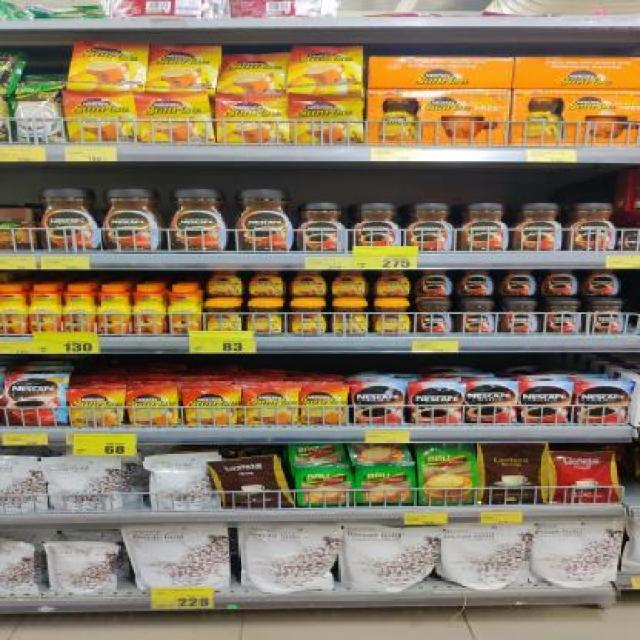Coffee: (140, 93, 214, 143), (66, 92, 137, 143), (74, 42, 145, 91), (41, 188, 97, 250), (218, 95, 290, 143), (290, 47, 361, 94), (293, 95, 362, 143), (171, 191, 227, 250), (3, 375, 66, 425), (106, 189, 157, 250), (239, 191, 292, 249), (151, 46, 217, 90), (222, 55, 286, 94), (299, 204, 347, 251), (354, 204, 401, 248), (572, 203, 616, 249), (408, 204, 452, 250), (519, 202, 561, 250), (464, 204, 506, 252), (409, 384, 461, 422), (577, 384, 629, 422), (521, 382, 569, 423), (186, 388, 240, 424), (356, 383, 404, 423), (299, 388, 350, 424), (246, 388, 297, 424), (468, 383, 515, 422), (70, 389, 120, 425), (128, 390, 180, 424), (98, 285, 132, 336), (63, 285, 95, 334), (30, 285, 62, 333), (169, 286, 200, 335), (134, 285, 165, 333), (331, 299, 371, 333), (585, 299, 624, 333), (289, 299, 326, 333), (0, 285, 26, 333), (374, 301, 411, 334), (204, 298, 242, 330), (415, 299, 453, 331), (457, 300, 495, 332), (500, 301, 538, 333), (544, 300, 580, 332), (247, 300, 281, 333), (584, 270, 622, 296), (414, 270, 452, 294), (498, 272, 536, 296), (206, 270, 240, 296), (375, 270, 409, 296), (331, 271, 367, 295), (458, 271, 494, 295), (289, 271, 325, 295), (545, 270, 577, 296), (249, 272, 283, 294)
